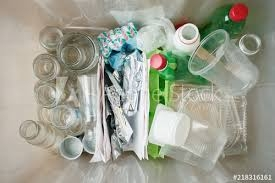plastic: (182, 28, 260, 97), (148, 51, 205, 89), (146, 103, 191, 146), (57, 31, 100, 76), (211, 3, 251, 36), (174, 23, 202, 53)
